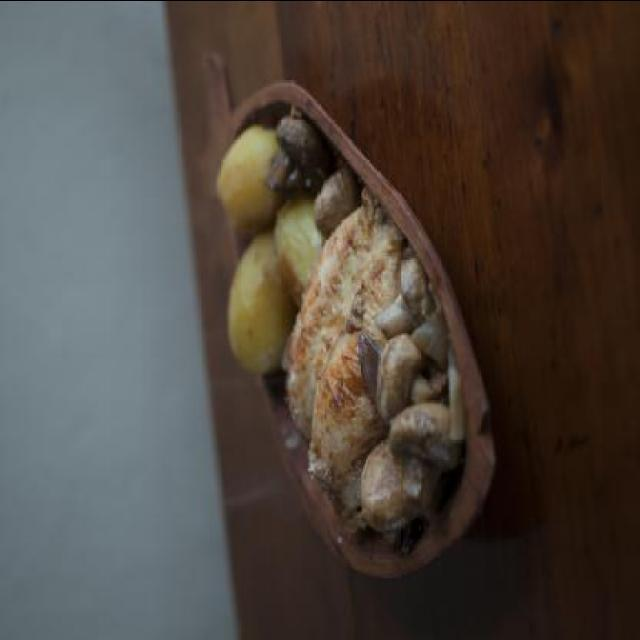Potato: (223, 235, 300, 373), (214, 120, 282, 228), (272, 200, 330, 318)
